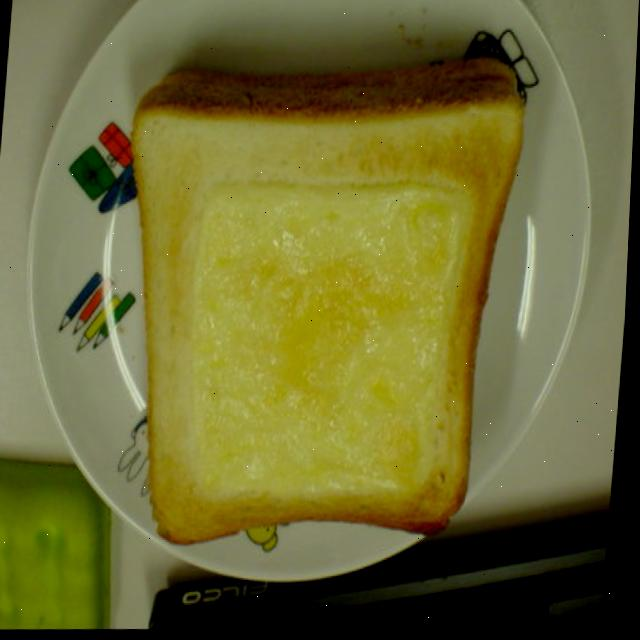面包点心: (101, 54, 530, 574)
